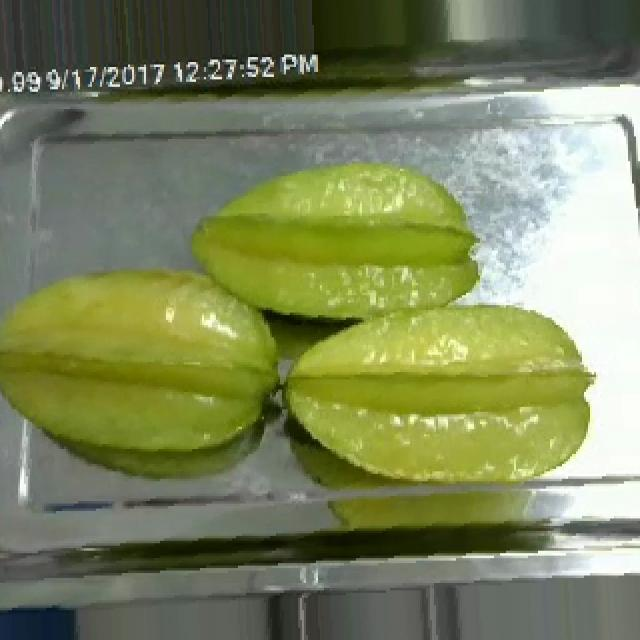fruit: (272, 270, 610, 506), (0, 246, 292, 471), (178, 146, 498, 342)
